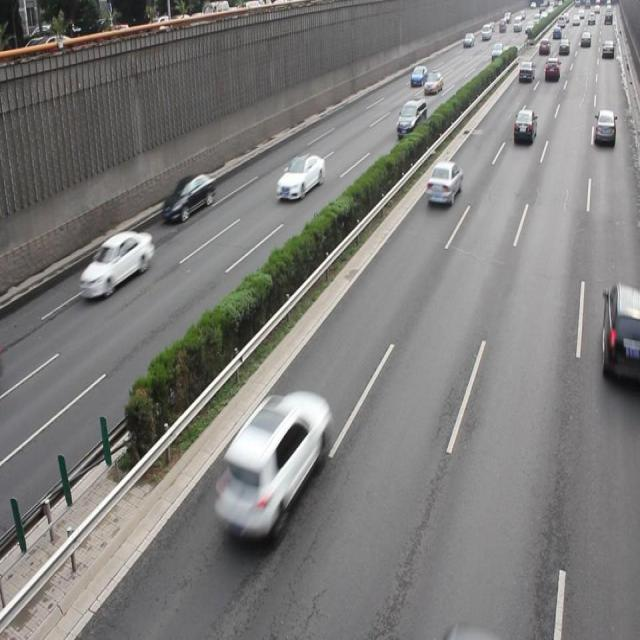car: (209, 392, 328, 542), (78, 229, 154, 300), (601, 284, 640, 384), (162, 172, 216, 223), (276, 151, 325, 200), (424, 160, 461, 206), (511, 108, 536, 146), (592, 110, 615, 145)
truck: (395, 99, 426, 138)
